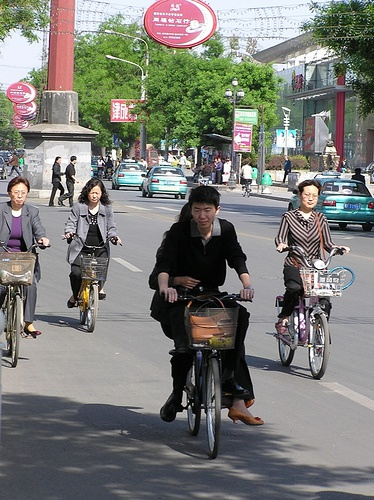non-vehicle: (266, 246, 347, 382), (174, 285, 237, 458), (0, 239, 51, 368), (71, 234, 121, 330), (241, 181, 250, 197)
